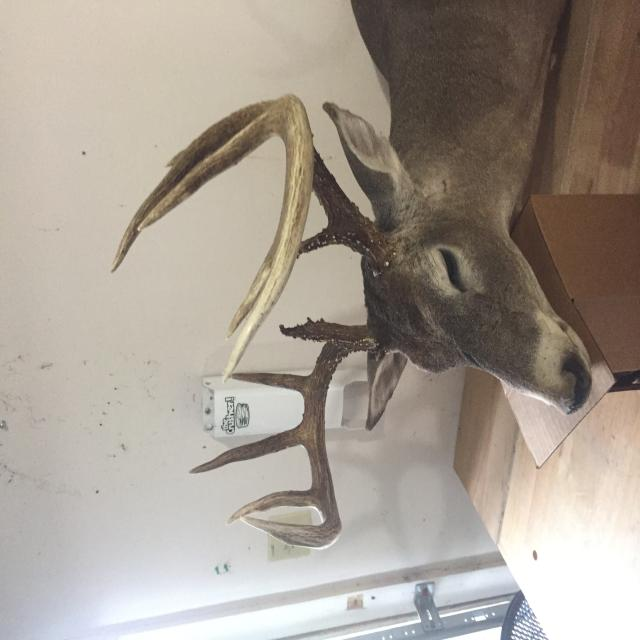R-F: (68, 320, 237, 517)
R-G1: (222, 372, 242, 454)
R-G2: (183, 309, 200, 412)
R-G3: (124, 251, 162, 406)
R-G4: (306, 183, 400, 373), (85, 299, 115, 423)
